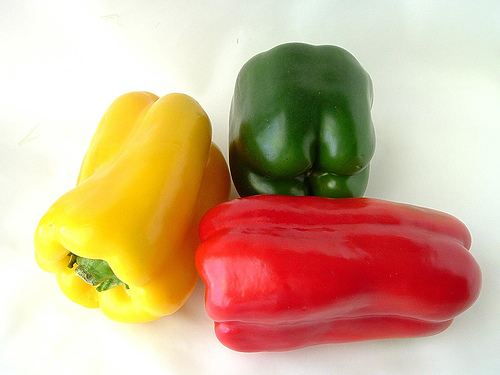capsicum: (192, 192, 486, 356), (33, 89, 232, 326), (228, 42, 376, 197)
